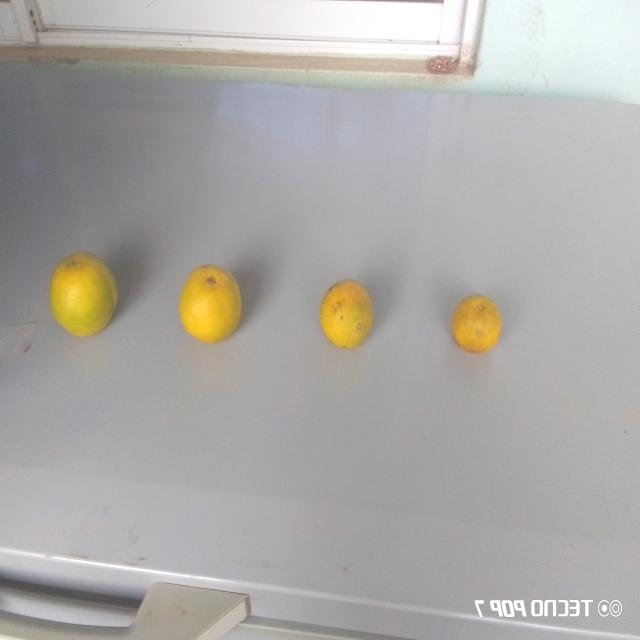agrume: (46, 249, 122, 347), (170, 264, 246, 349), (318, 276, 379, 358), (447, 293, 504, 363)
